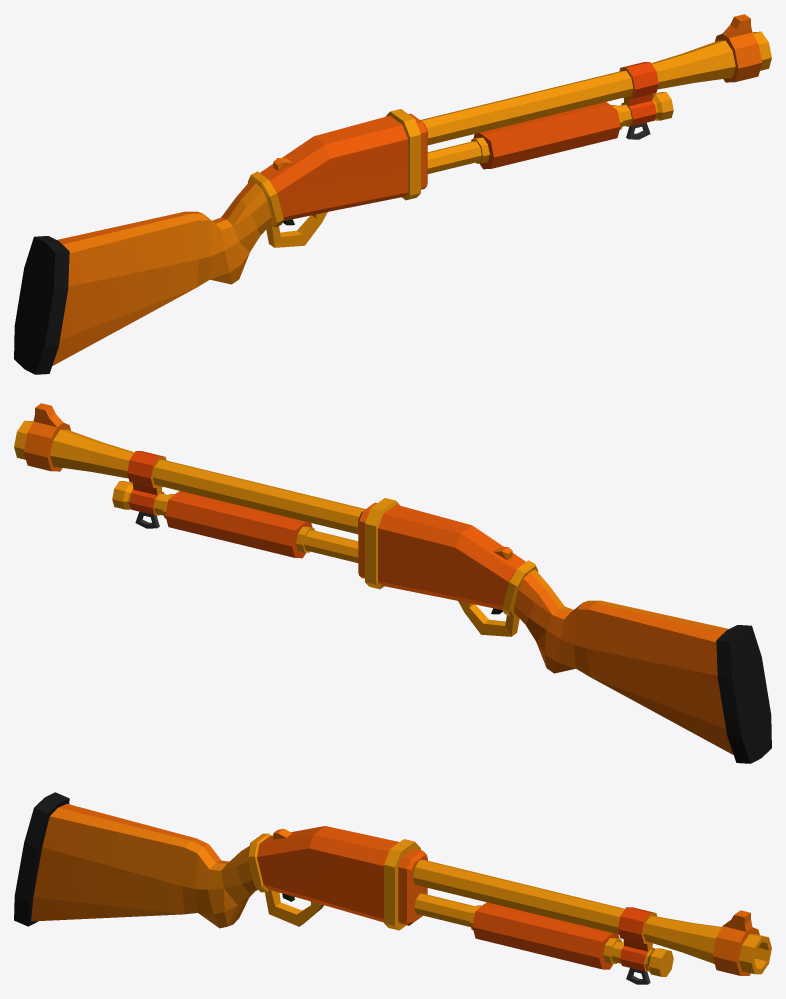
File: shootgun (2).fbx
The picture shows the model from 3 angles, top to bottom: view 1: azimuth 30°, elevation 25°; view 2: azimuth 150°, elevation 25°; view 3: azimuth 330°, elevation 25°; orthographic projection.
Visible parts, largest first — view 1: Shotgun; view 2: Shotgun; view 3: Shotgun.
Part boxes in pixels (<box>): Shotgun: <box>14,14,771,374</box>; Shotgun: <box>14,403,771,763</box>; Shotgun: <box>14,792,771,984</box>.
Bounding box in the file's own units: 120 × 27.91 × 8.41.
1 material, 1 textured.
